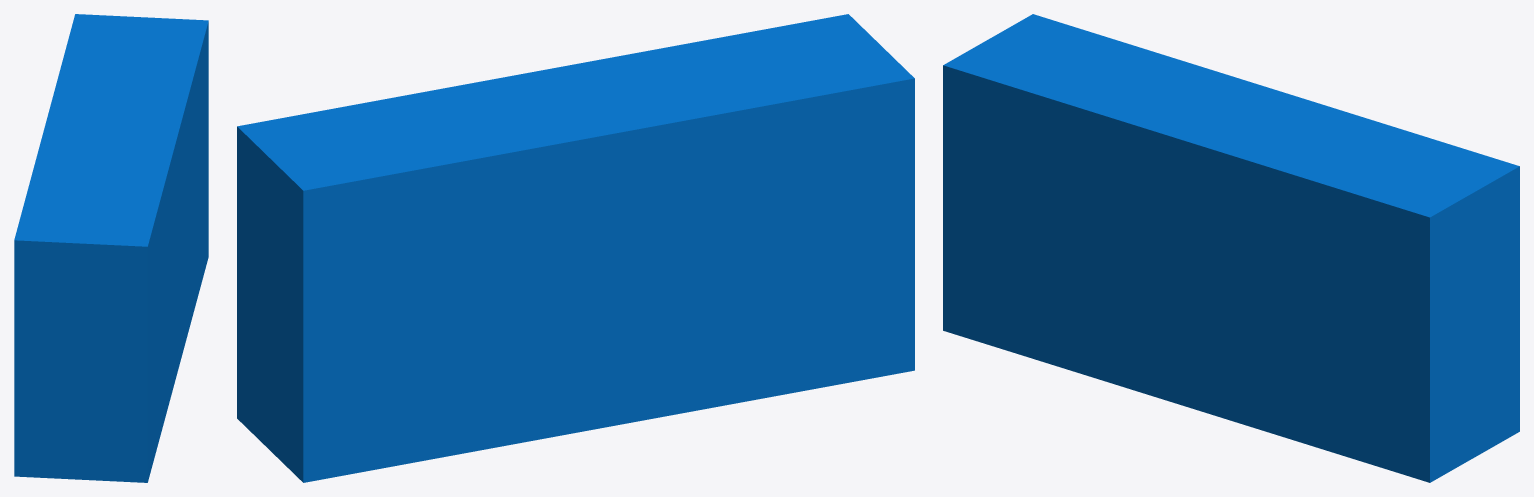
Rendered from Palma_T1_URB.fbx.
3 renders of one model, left to right at view 1: azimuth 30°, elevation 25°; view 2: azimuth 150°, elevation 25°; view 3: azimuth 270°, elevation 25°, orthographic. The views are drawn at different scales.
Visible parts, largest first — view 1: Cube__47_; view 2: Cube__47_; view 3: Cube__47_.
Part boxes in pixels (x1,y1,x2,y2): Cube__47_: (14, 14, 208, 482); Cube__47_: (237, 14, 914, 482); Cube__47_: (943, 14, 1519, 482).
Size of the model in its own units: 4624 by 2811 by 5536.
